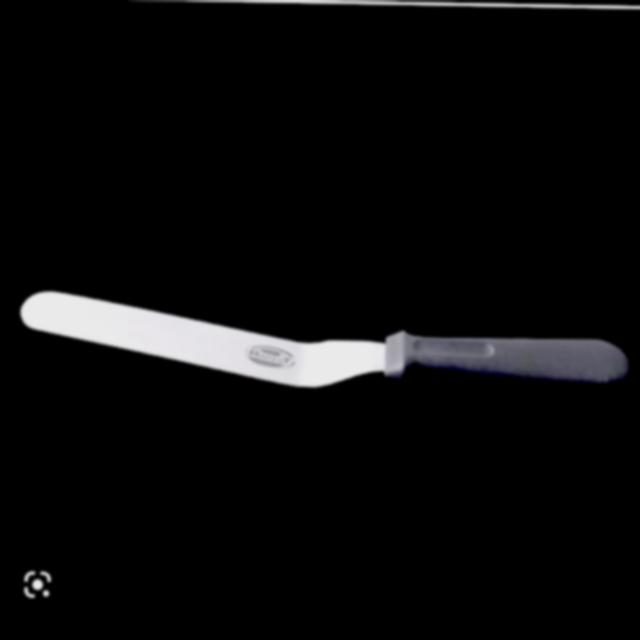knife: (10, 243, 638, 453)
